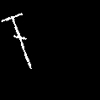double_crochet: (2, 13, 31, 68)
